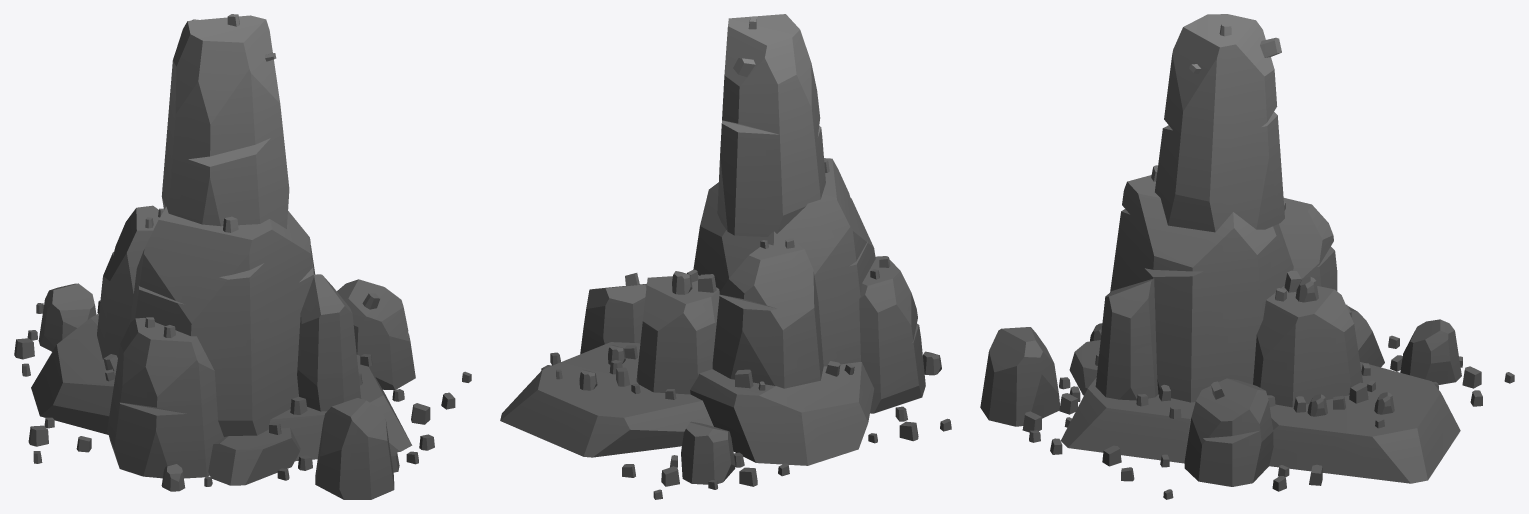
Rendered from BigRock_05.fbx.
The picture shows the model from 3 angles, left to right: view 1: azimuth 30°, elevation 25°; view 2: azimuth 150°, elevation 25°; view 3: azimuth 270°, elevation 25°; orthographic projection. The views are drawn at different scales.
Visible parts, largest first — view 1: big_rock_05; view 2: big_rock_05; view 3: big_rock_05.
Part boxes in pixels (<box>): big_rock_05: <box>14,14,471,499</box>; big_rock_05: <box>500,14,951,499</box>; big_rock_05: <box>980,14,1514,499</box>.
Bounding box in the file's own units: 687 × 627 × 802.
1 material, 1 textured.
